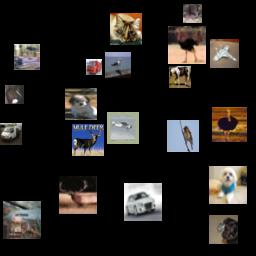airplane: (3, 201, 41, 239), (107, 112, 139, 144), (210, 39, 239, 68)
automobile: (124, 183, 162, 221)
bird: (168, 26, 206, 64), (212, 107, 247, 142), (167, 120, 199, 152), (105, 52, 131, 78), (5, 85, 24, 104)
cat: (110, 13, 142, 45)
deer: (59, 176, 97, 214), (72, 124, 104, 156), (183, 4, 202, 23)
dog: (209, 166, 247, 204), (65, 88, 97, 120), (209, 215, 238, 244)
ship: (14, 44, 40, 70)
truck: (0, 123, 22, 145), (86, 59, 102, 75)
